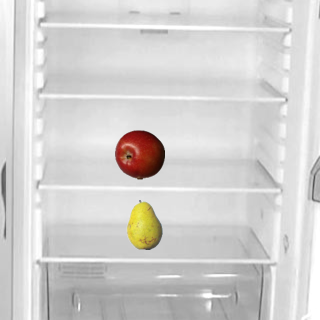Apple Braeburn: (114, 129, 164, 179)
Pear Monster: (119, 199, 169, 249)
